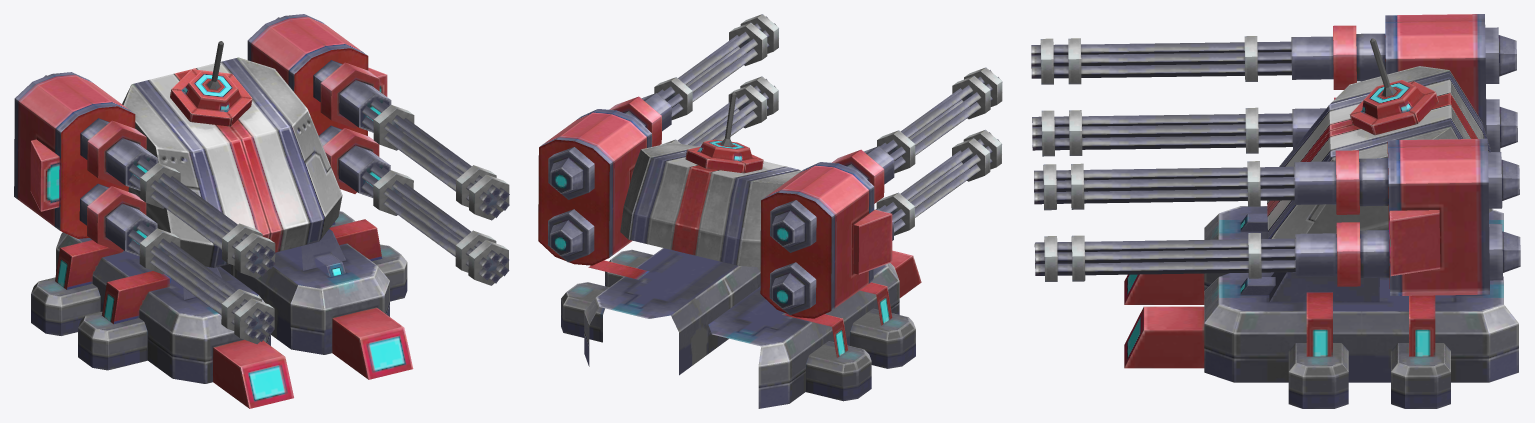
Rendered from sgjqp.gltf.
3 views of the same model, side by side, from view 1: azimuth 30°, elevation 25°; view 2: azimuth 150°, elevation 25°; view 3: azimuth 270°, elevation 25° (orthographic). The views are drawn at different scales.
Visible parts, largest first — view 1: Object01, Box01; view 2: Object01, Box01; view 3: Object01, Box01.
Boxes of the visible parts, x1,y1,x2,y2 form: Object01: (14, 14, 509, 344); Box01: (31, 211, 413, 408); Object01: (538, 14, 1002, 318); Box01: (561, 248, 921, 408); Object01: (1031, 14, 1520, 295); Box01: (1124, 206, 1518, 408).
Size of the model in its own units: 5.68 by 4.14 by 6.33.
1 material, 1 textured.
